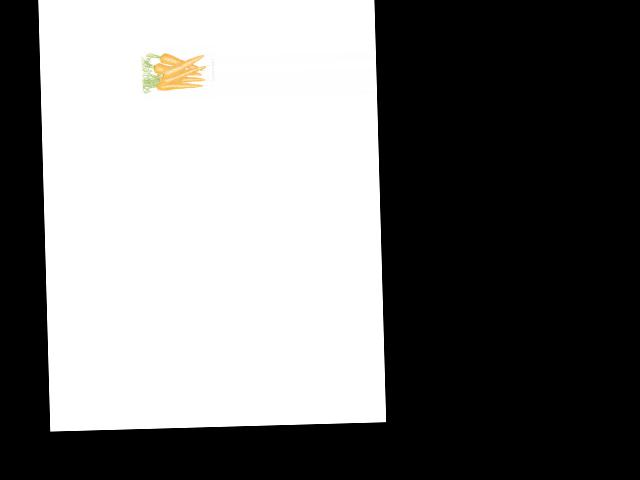carrot: (158, 70, 212, 85)
